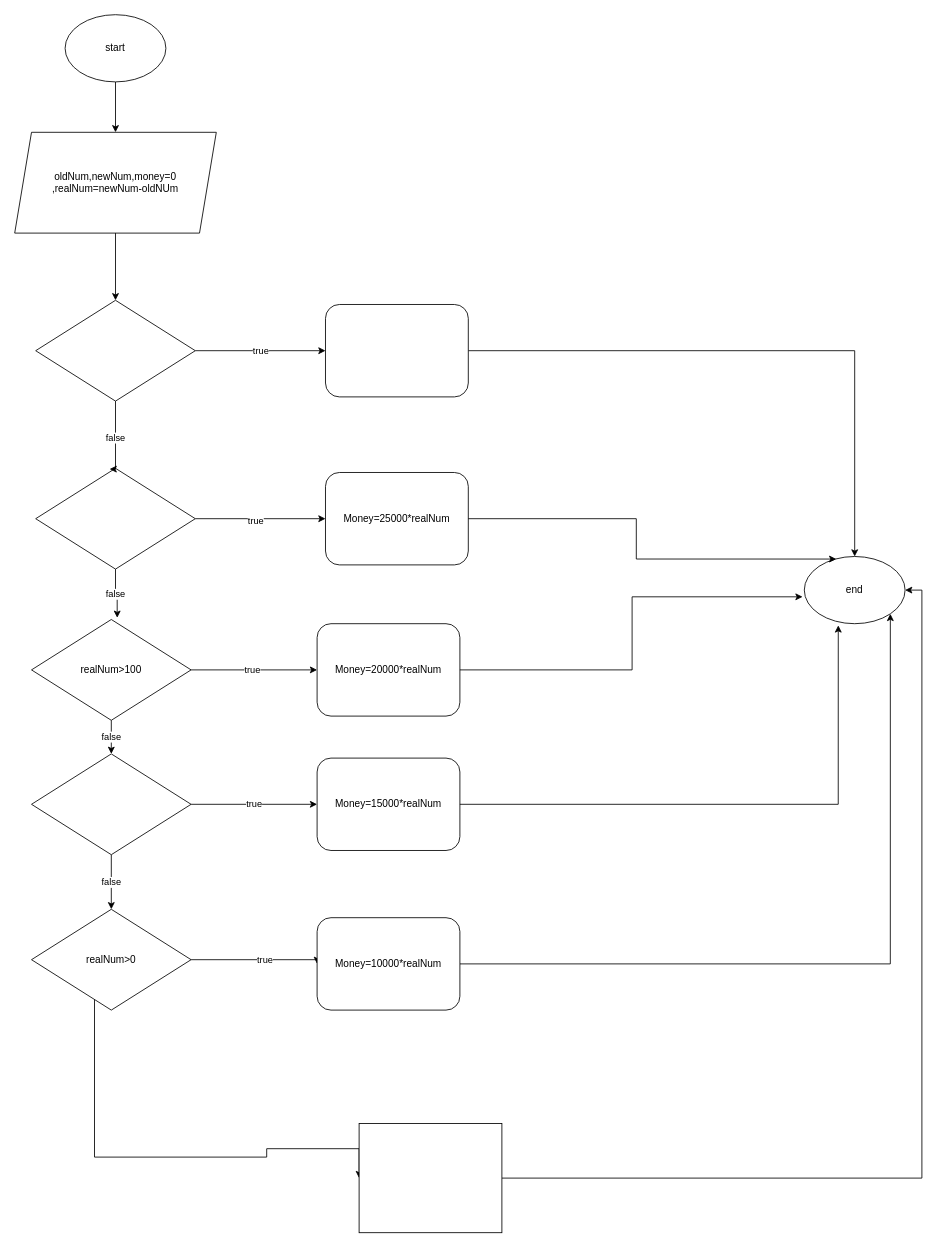
Image size: 943x1247. Some labels were removed from this diagram. The centre of each missing label's shape, as x and y in pixels:
"Money=30000*realNum" goes at (396,350).
"realNum>150" goes at (115,518).
"realNum>200" goes at (115,350).
"realNum>50" goes at (111,804).
"Số liệu sai" goes at (430,1178).
